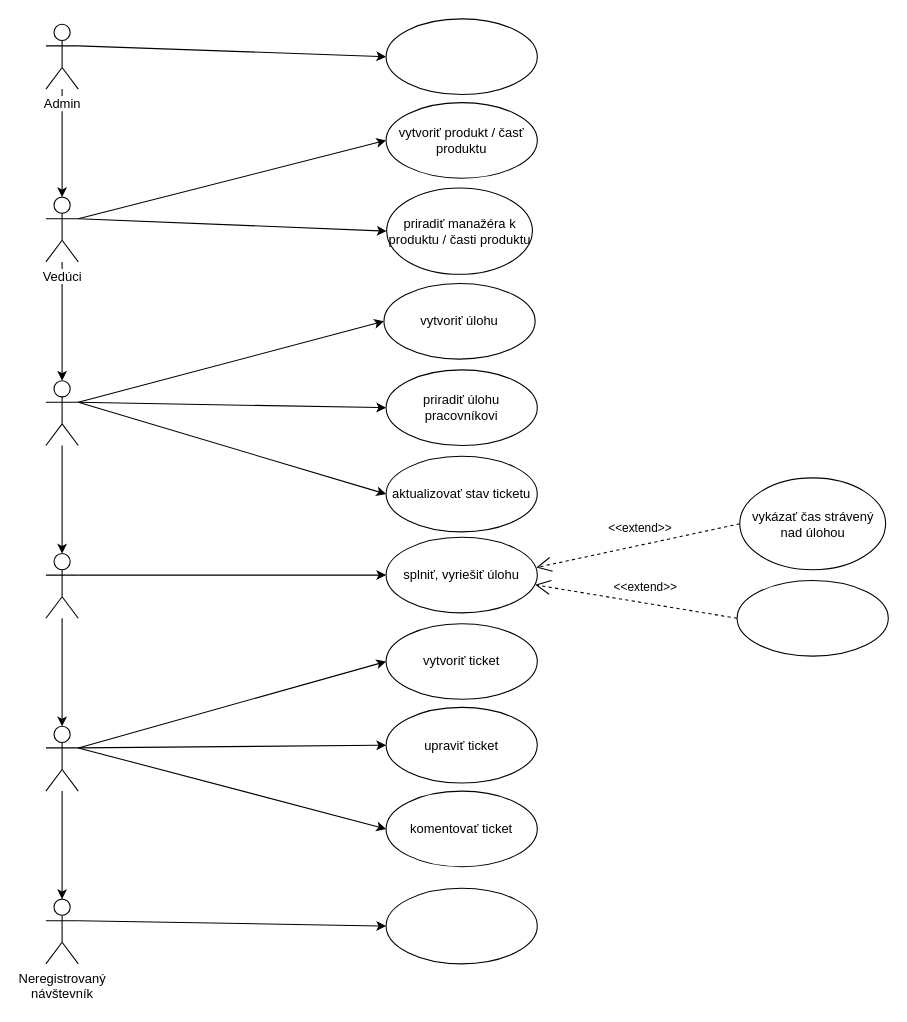
This 907x1022 diagram has some shape labels left out. The centre of each missing label's shape, as x and y in pixels:
"Manažér" goes at pixel 61 413.
"poskytnúť popis riešenia" goes at pixel 812 617.
"Pracovník" goes at pixel 61 585.
"prehľadávať tickety" goes at pixel 461 925.
"správa užívateľov" goes at pixel 461 56.
"Zákazník" goes at pixel 61 758.
